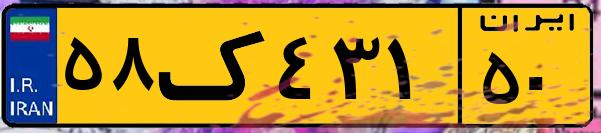0: (525, 38, 570, 115)
1: (385, 28, 445, 110)
3: (330, 28, 385, 110)
4: (270, 28, 330, 110)
5: (57, 26, 110, 100), (475, 38, 525, 113)
8: (110, 28, 158, 98)
ک: (158, 12, 270, 120)
